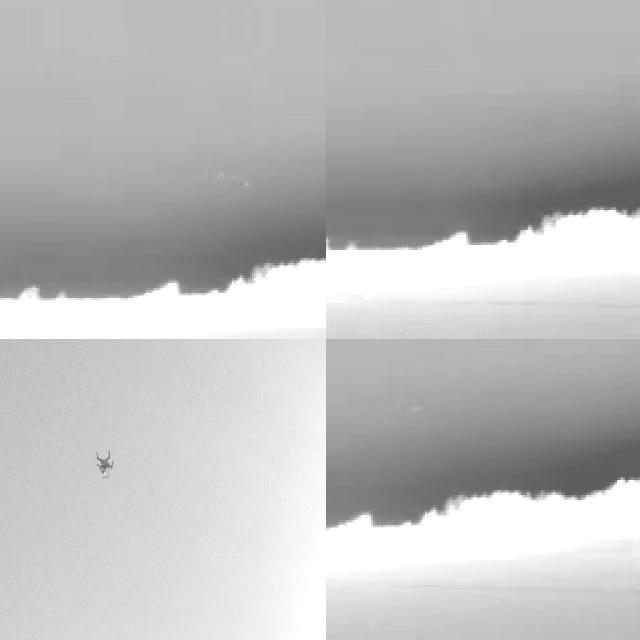0: (233, 172, 261, 202), (405, 398, 431, 430)
drone: (92, 444, 118, 484)
